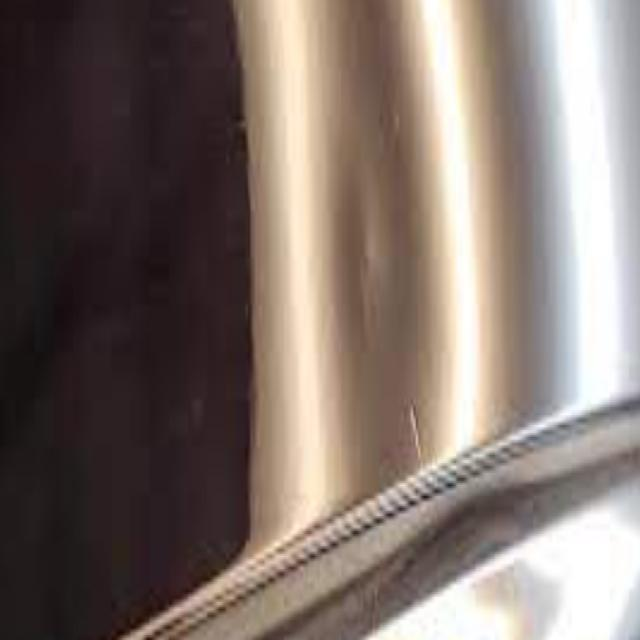dents: (336, 183, 390, 341)
